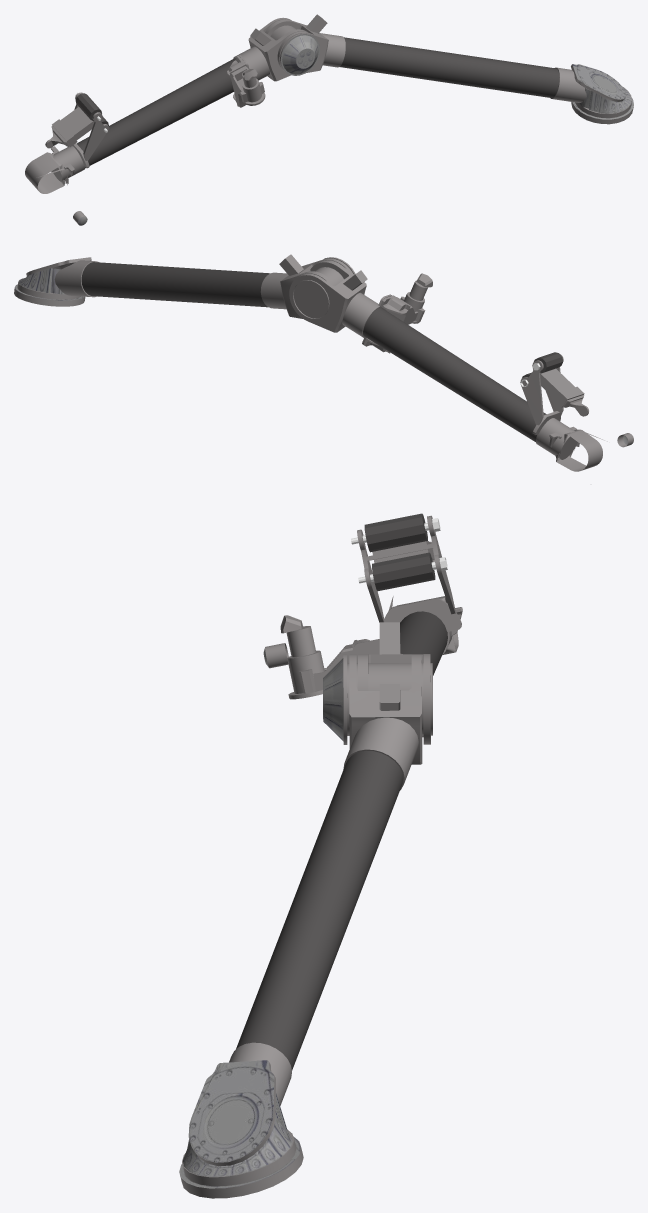
The model's file is susp_right_front.glb.
3 renders of one model, top to bottom at view 1: azimuth 30°, elevation 25°; view 2: azimuth 150°, elevation 25°; view 3: azimuth 270°, elevation 25°, orthographic. The views are drawn at different scales.
Parts seen in each view (by area): view 1: suspension.004; view 2: suspension.004; view 3: suspension.004.
Part boxes in pixels (x1,y1,x2,y2): suspension.004: [25, 14, 633, 225]; suspension.004: [14, 254, 633, 471]; suspension.004: [179, 513, 462, 1198].
Size of the model in its own units: 1.78 by 0.3951 by 0.3993.
4 materials, 1 textured.
